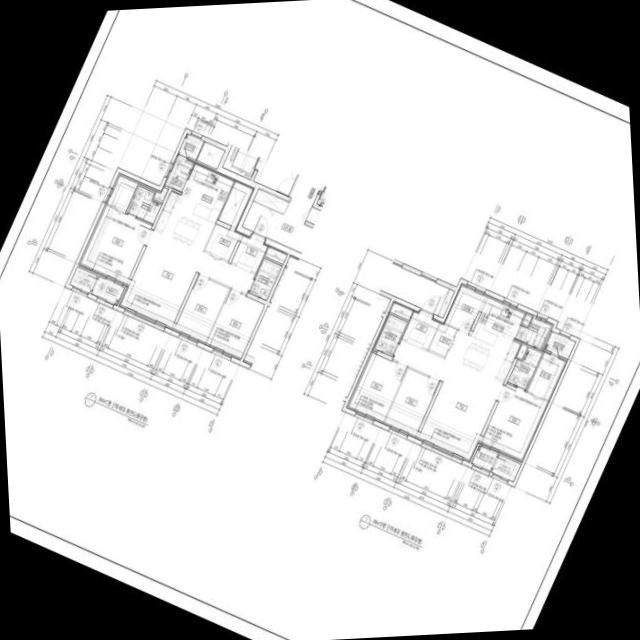background: (0, 0, 640, 640)
space_balconi: (91, 277, 125, 305), (471, 446, 498, 471)
space_bedroom: (78, 174, 152, 286), (480, 384, 549, 462), (346, 352, 407, 424), (206, 290, 264, 360), (384, 369, 439, 438), (174, 276, 229, 345)
space_dressroom: (527, 351, 567, 401)
space_elevator: (222, 145, 260, 180), (317, 186, 331, 206)
space_elevator_hall: (242, 159, 321, 254)
space_front: (402, 311, 439, 350), (232, 234, 268, 273)
space_kitchen: (445, 296, 526, 385), (154, 163, 234, 253)
space_living_room: (118, 230, 255, 330), (393, 340, 502, 463)
space_multipurpose_space: (515, 316, 553, 351), (164, 155, 194, 192)
space_other: (380, 263, 449, 316), (444, 284, 486, 334), (218, 181, 254, 228), (207, 226, 241, 261), (429, 323, 456, 357), (254, 189, 289, 215), (492, 455, 521, 482), (197, 142, 225, 169), (70, 267, 97, 294), (389, 302, 413, 321), (438, 290, 454, 318), (265, 246, 287, 265), (306, 207, 321, 225), (154, 187, 168, 203), (517, 345, 527, 359), (522, 313, 532, 326)
space_outdoor_room: (544, 332, 575, 359), (178, 134, 204, 160)
space_toilet: (507, 348, 542, 390), (375, 315, 408, 357), (249, 259, 282, 301), (127, 186, 162, 224)
